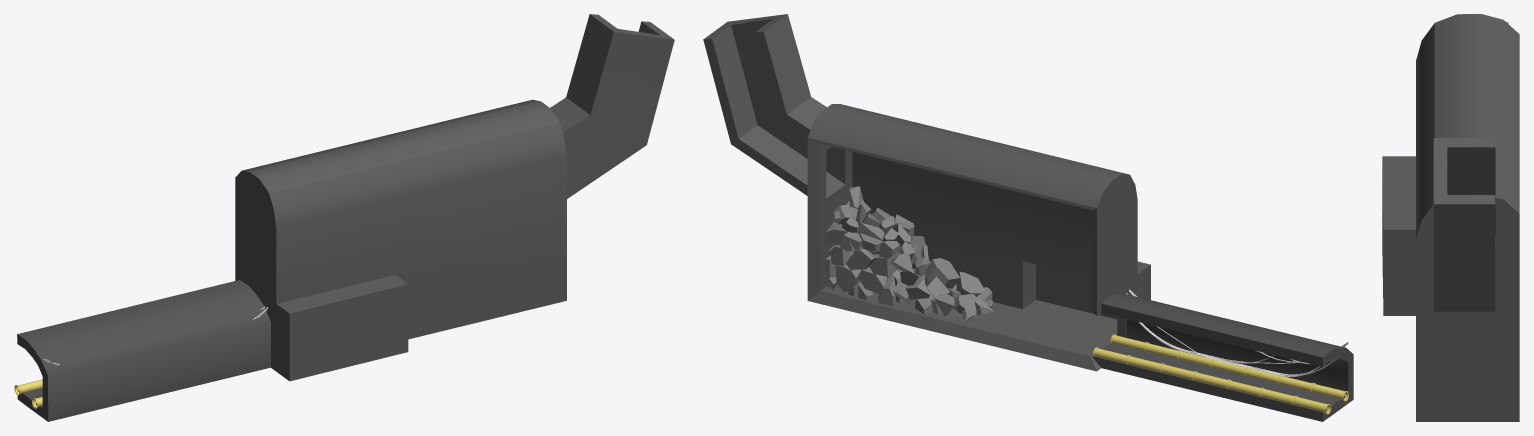
Rendered from salle1.fbx.
The picture shows the model from 3 angles, left to right: view 1: azimuth 30°, elevation 25°; view 2: azimuth 150°, elevation 25°; view 3: azimuth 270°, elevation 25°; orthographic projection. The views are drawn at different scales.
Parts seen in each view (by area): view 1: salle2, salle1; view 2: salle2, salle1, Cube.001_cell.001, Tuyau_normal__11_.001, cable_tool_1_1_bakedHDA_2; view 3: salle2.
Boxes of the visible parts, x1,y1,x2,y2 form: salle2: (235, 14, 674, 381); salle1: (17, 280, 270, 421); salle2: (703, 14, 1150, 371); salle1: (1092, 294, 1353, 421); Cube.001_cell.001: (824, 186, 994, 321); Tuyau_normal__11_.001: (1093, 334, 1348, 414); cable_tool_1_1_bakedHDA_2: (1126, 289, 1348, 376); salle2: (1382, 14, 1519, 421).
Bounding box in the file's own units: 7089 × 2690 × 1056.
